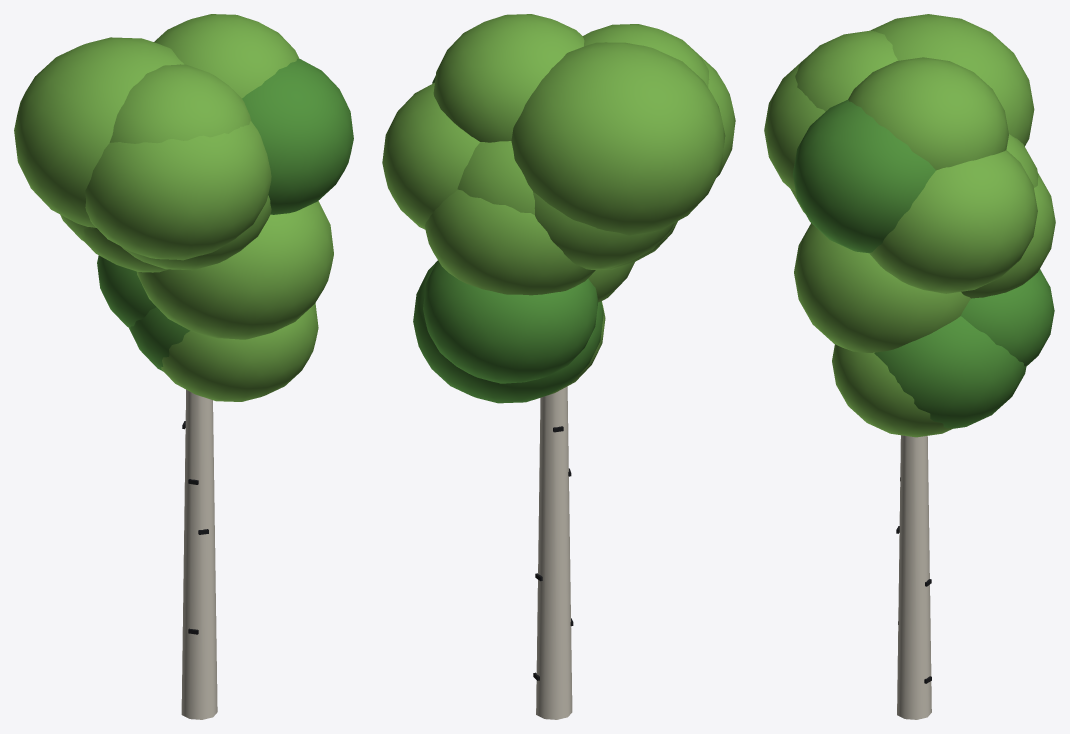
File: arbre_prairie_2.glb
The picture shows the model from 3 angles, left to right: view 1: azimuth 30°, elevation 25°; view 2: azimuth 150°, elevation 25°; view 3: azimuth 270°, elevation 25°; orthographic projection. The views are drawn at different scales.
Parts seen in each view (by area): view 1: feuillage_feuille_claire.008, feuillage_feuille.012, tronc.012; view 2: feuillage_feuille_claire.008, feuillage_feuille.012, tronc.012; view 3: feuillage_feuille_claire.008, feuillage_feuille.012, tronc.012.
Part boxes in pixels (box(x1,y1,x2,y2)): feuillage_feuille_claire.008: box(14, 14, 333, 401); feuillage_feuille.012: box(97, 58, 353, 371); tronc.012: box(181, 389, 217, 719); feuillage_feuille_claire.008: box(382, 14, 735, 394); feuillage_feuille.012: box(413, 76, 603, 403); tronc.012: box(536, 386, 572, 719); feuillage_feuille_claire.008: box(764, 14, 1055, 437); feuillage_feuille.012: box(793, 99, 1054, 428); tronc.012: box(897, 435, 931, 719).
Bounding box in the file's own units: 2.09 × 4.46 × 1.79.
